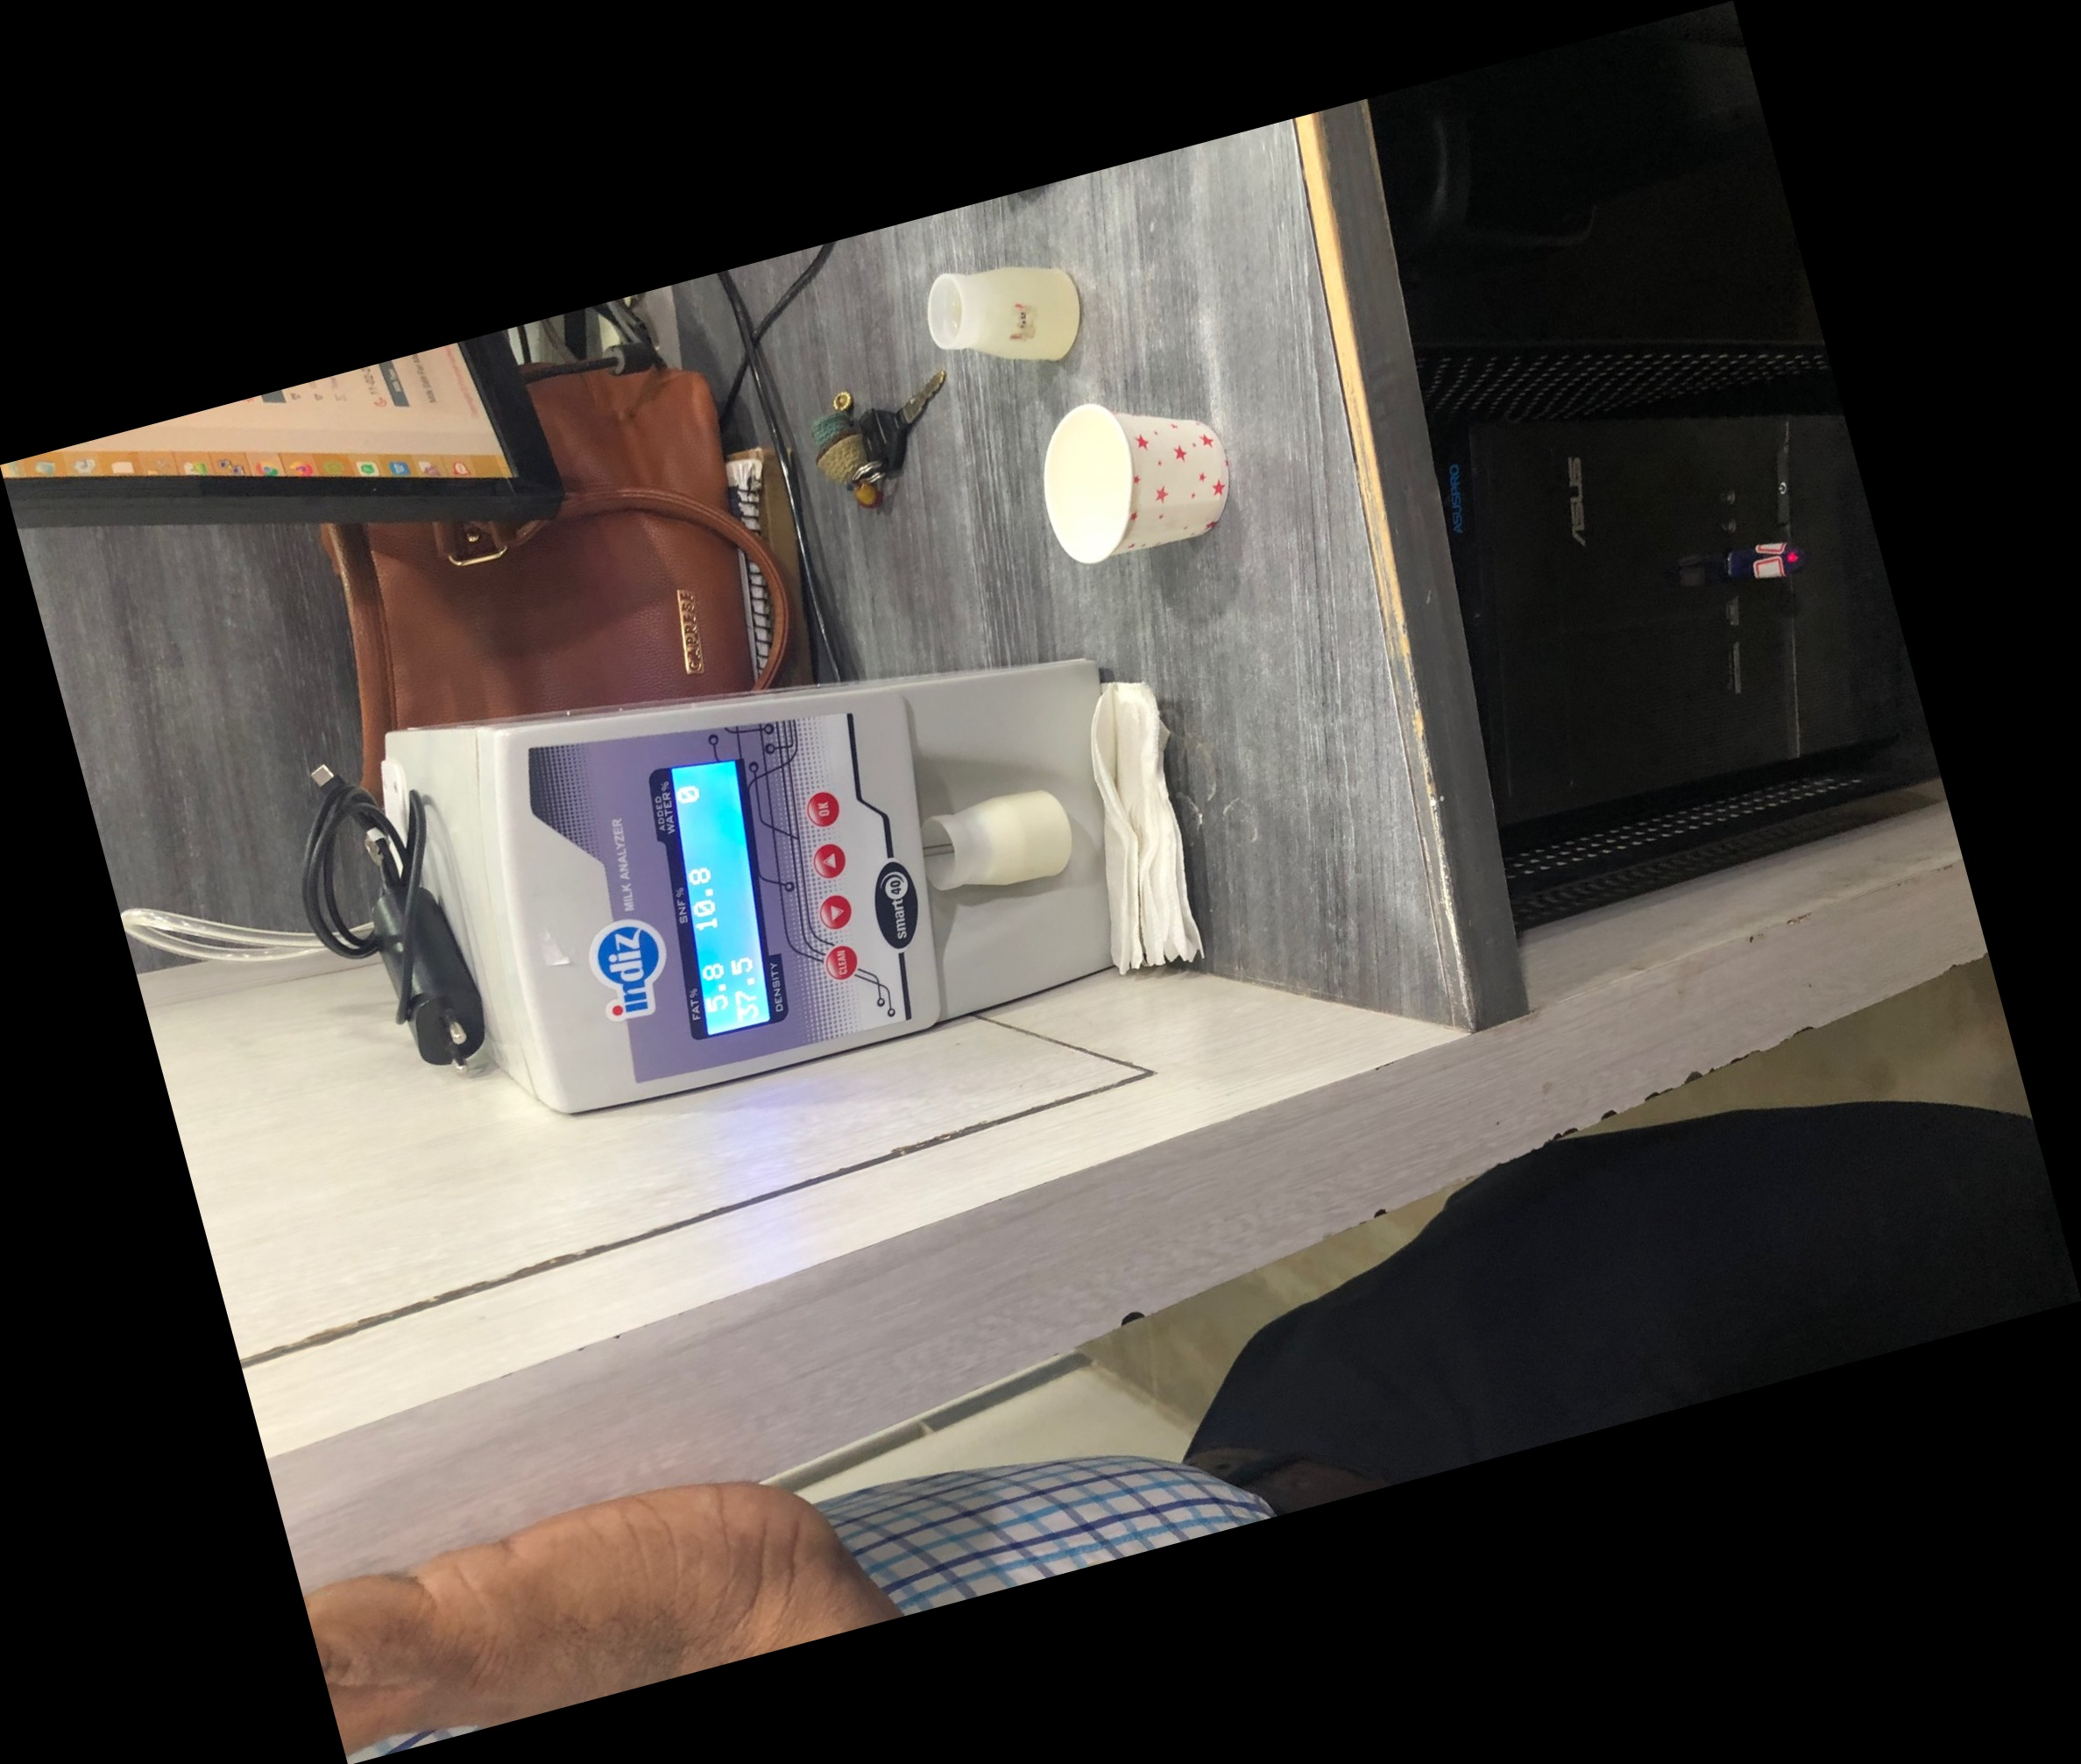lcd: (653, 747, 796, 1041)
